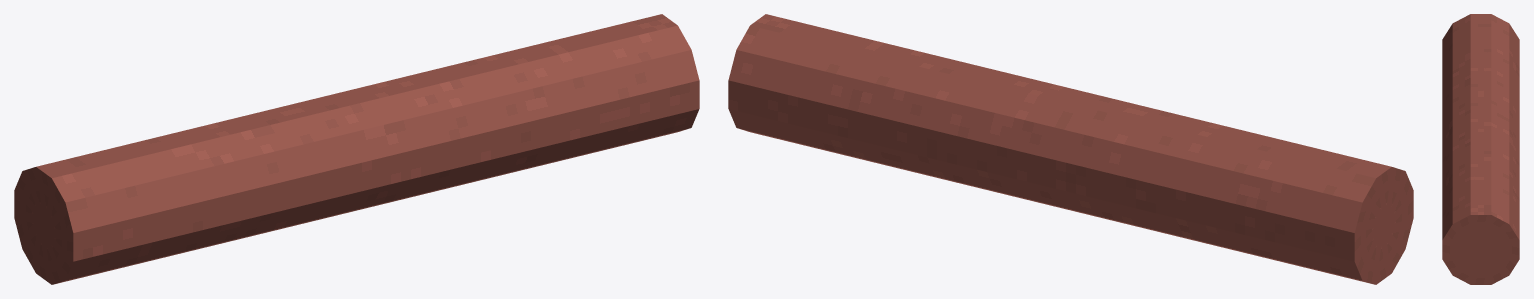
Rendered from porkstick.glb.
The picture shows the model from 3 angles, left to right: view 1: azimuth 30°, elevation 25°; view 2: azimuth 150°, elevation 25°; view 3: azimuth 270°, elevation 25°; orthographic projection. The views are drawn at different scales.
Visible parts, largest first — view 1: block_sausage; view 2: block_sausage; view 3: block_sausage.
Boxes of the visible parts, left/top/right/bottom form: block_sausage: left=14, top=14, right=699, bottom=284; block_sausage: left=728, top=14, right=1413, bottom=284; block_sausage: left=1442, top=14, right=1519, bottom=284.
Bounding box in the file's own units: 0.0756 × 0.0123 × 0.0123.
Materials: 1 (1 with a texture image).
